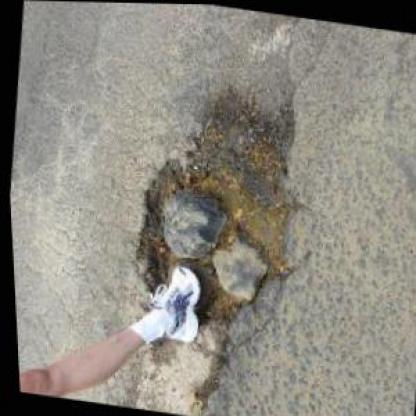pothole: (115, 71, 312, 337)
